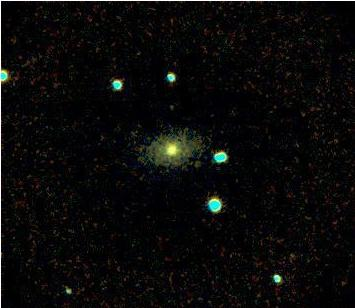star: (50, 273, 80, 303)
